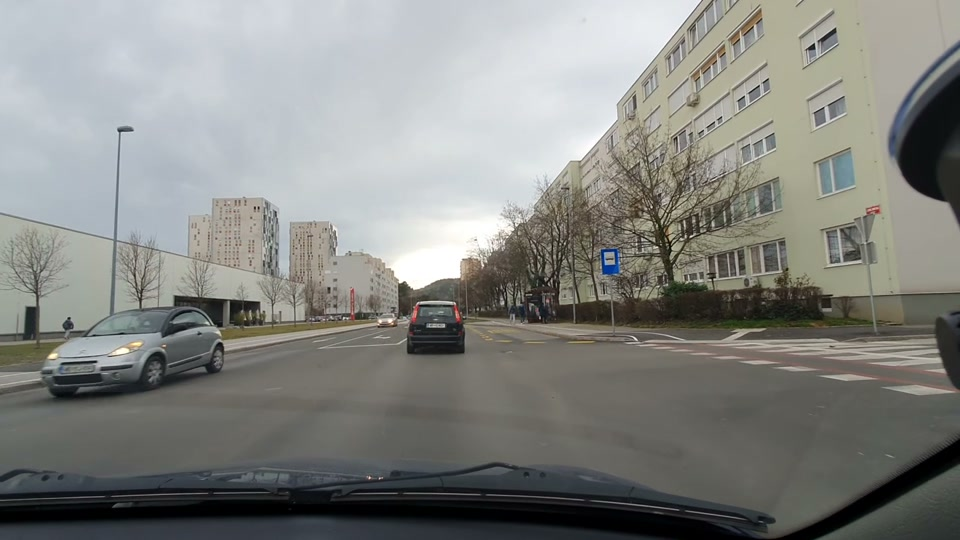vehicle_ign: (405, 298, 471, 359)
vehicle_s: (37, 299, 232, 399)
